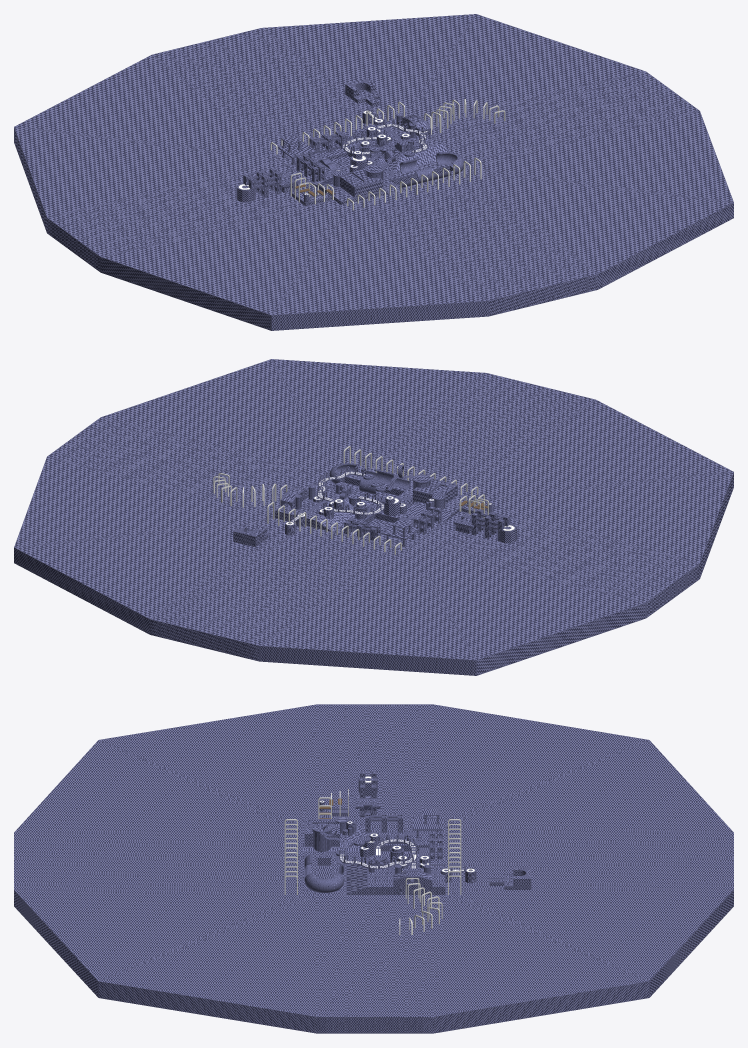
File: MAPV5.glb
3 renders of one model, top to bottom at view 1: azimuth 30°, elevation 25°; view 2: azimuth 150°, elevation 25°; view 3: azimuth 270°, elevation 25°, orthographic. The views are drawn at different scales.
Visible parts, largest first — view 1: Cube.018, Cube, Cube.026, Cube.034, Cube.025, Plane, Cube.035; view 2: Cube.018, Cube, Cube.035, Cube.026, Cube.025, Cube.034, Plane, Cube.002; view 3: Cube.018, Cube, Cube.025, Plane, Cube.017, Plane.001, Cube.026.
Part boxes in pixels (x1,y1,x2,y2): Cube.018: (14, 14, 733, 330); Cube: (274, 115, 472, 204); Cube.026: (340, 169, 383, 197); Cube.034: (347, 157, 481, 210); Cube.025: (424, 99, 505, 134); Plane: (345, 79, 380, 106); Cube.035: (270, 101, 404, 154); Cube.018: (14, 359, 733, 675); Cube: (274, 475, 473, 549); Cube.035: (267, 502, 401, 554); Cube.026: (413, 478, 457, 504); Cube.025: (213, 473, 287, 507); Cube.034: (343, 446, 478, 496); Plane: (233, 525, 268, 546); Cube.002: (323, 492, 384, 515); Cube.018: (14, 704, 733, 1033); Cube: (302, 822, 445, 894); Cube.025: (399, 878, 442, 935); Plane: (489, 867, 531, 889); Cube.017: (339, 847, 417, 869); Plane.001: (304, 873, 344, 892); Cube.026: (304, 819, 339, 846).
Bounding box in the file's own units: 2495 × 202 × 2427.
Materials: 16 (14 with a texture image).
